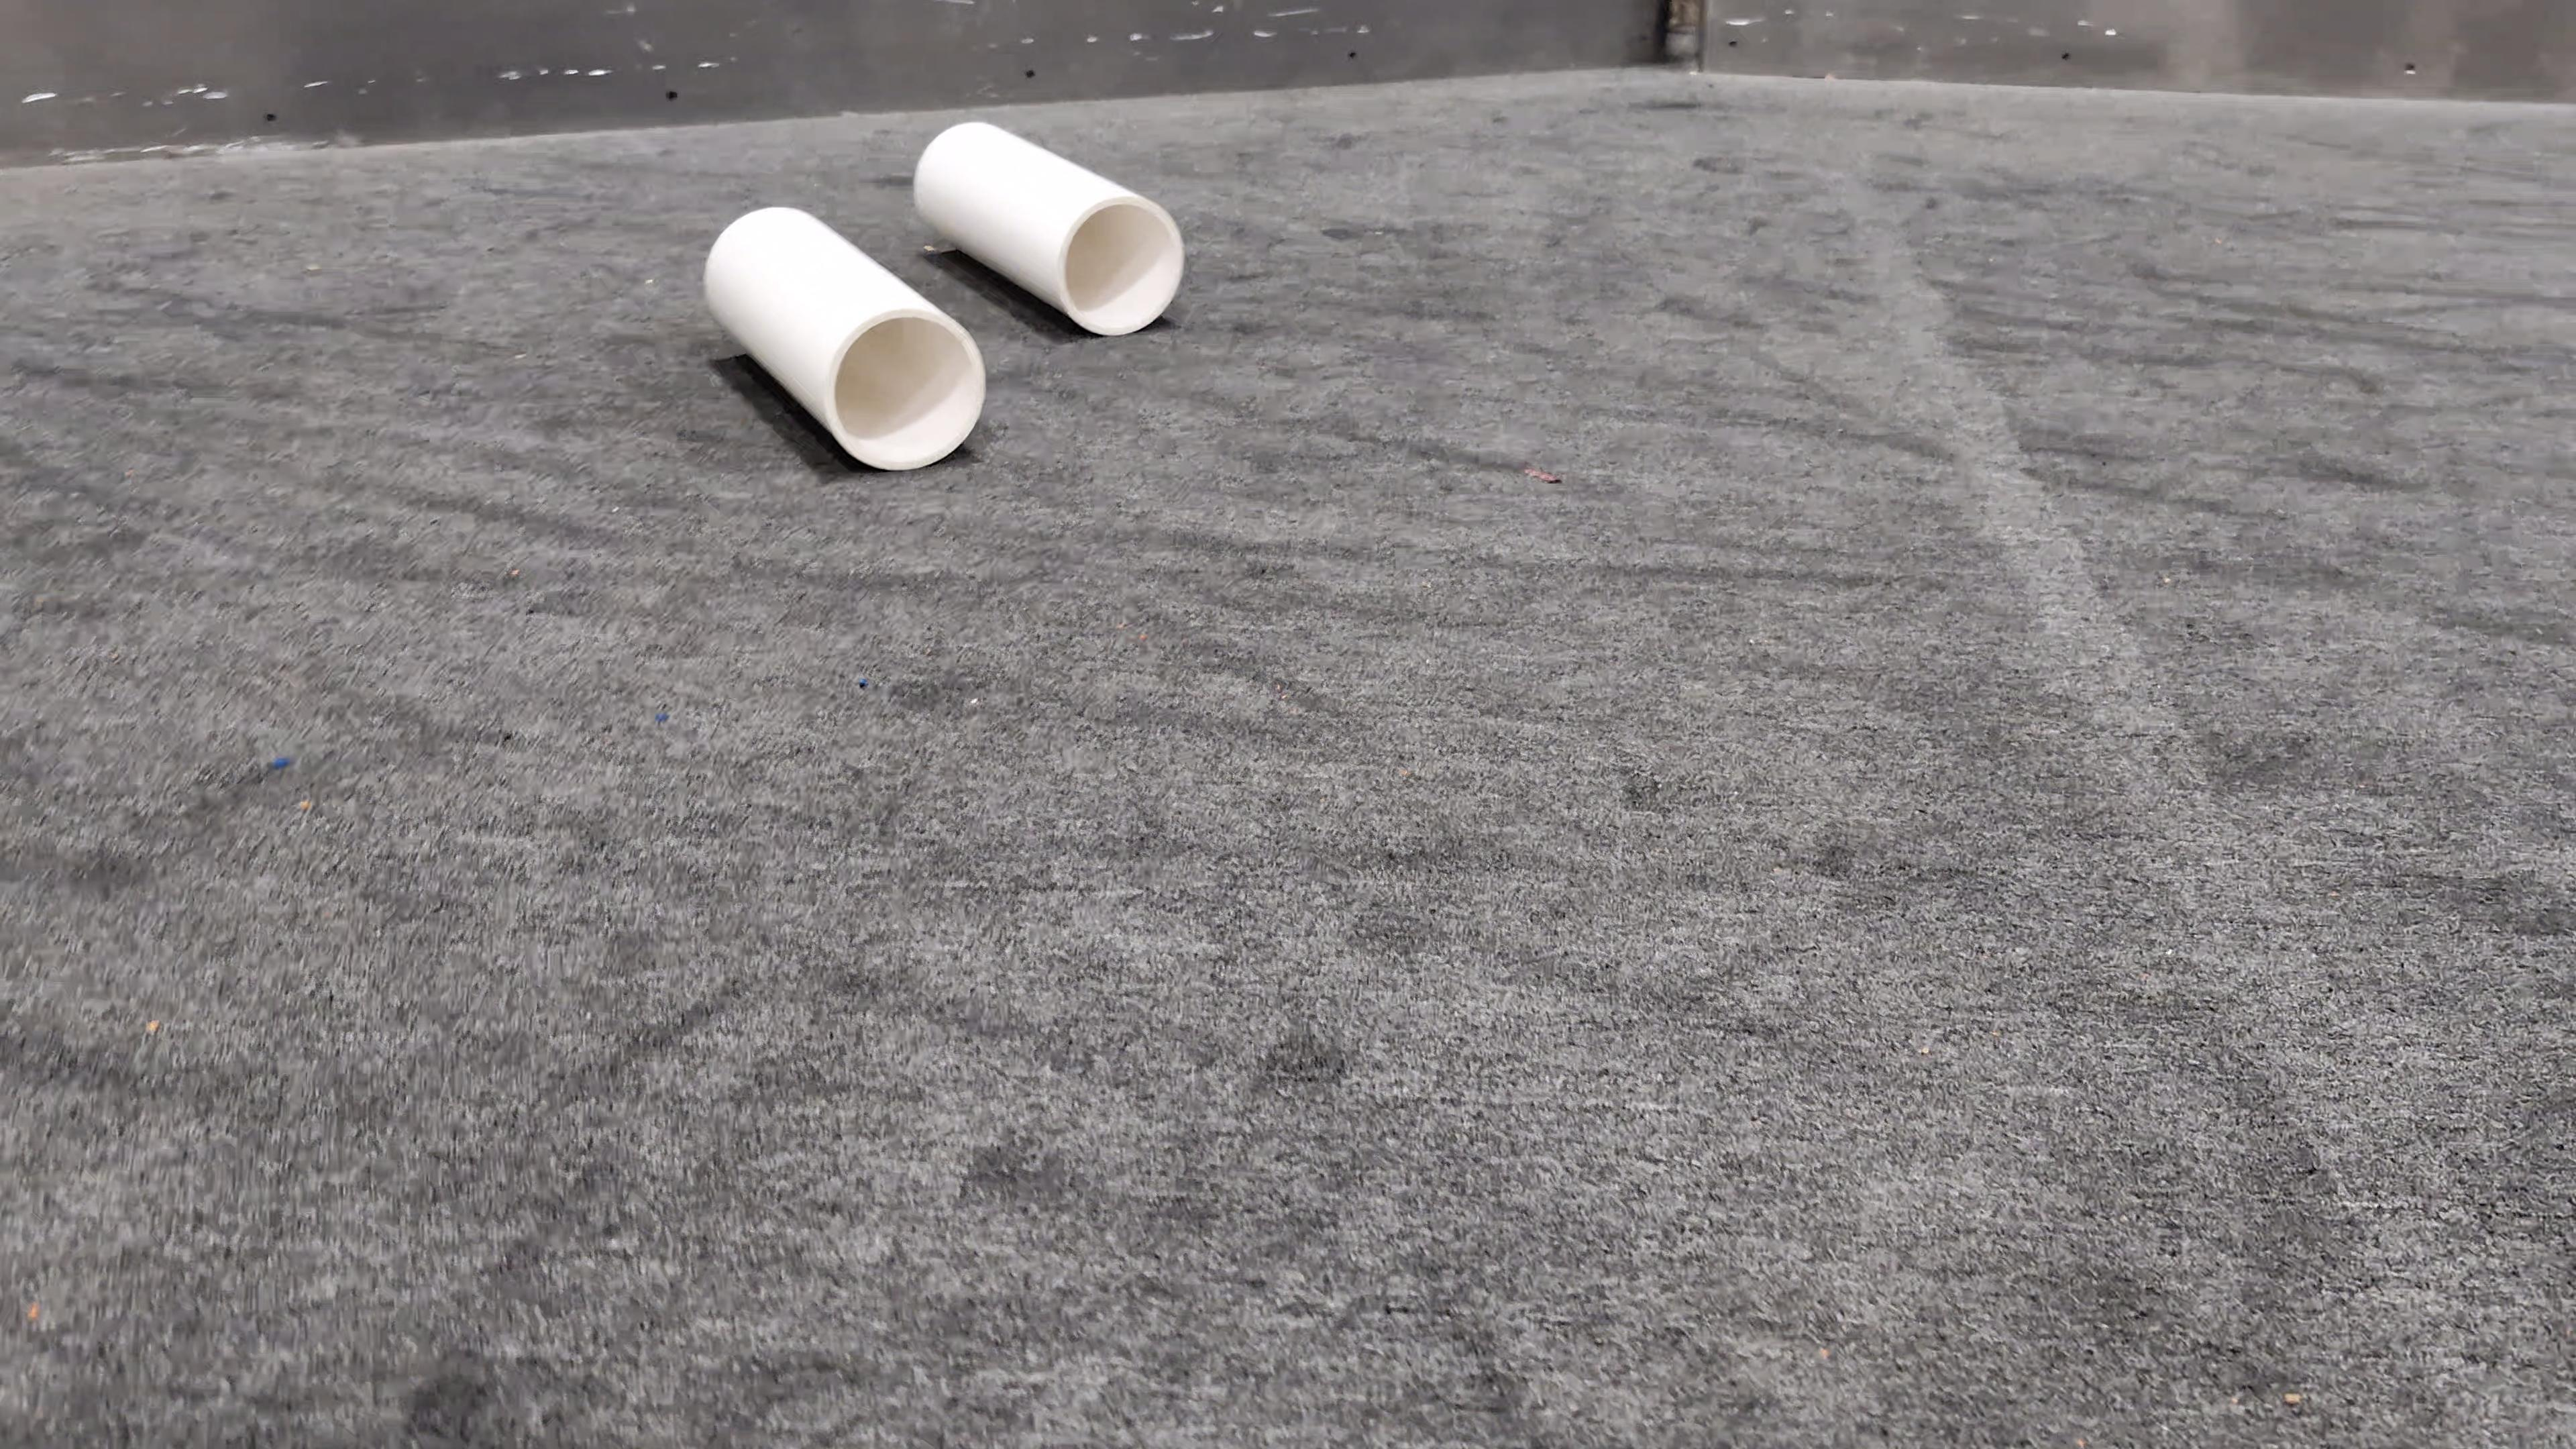coral: (699, 203, 989, 472), (915, 120, 1187, 336)
